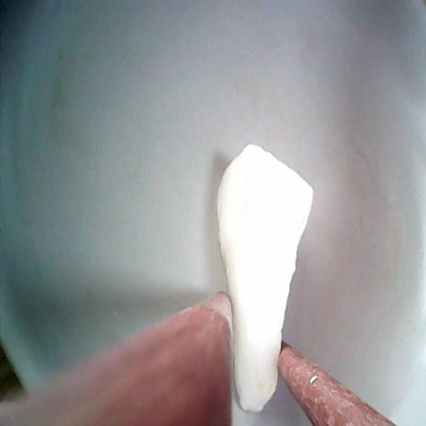white_chinese-yam: (212, 133, 330, 411)
